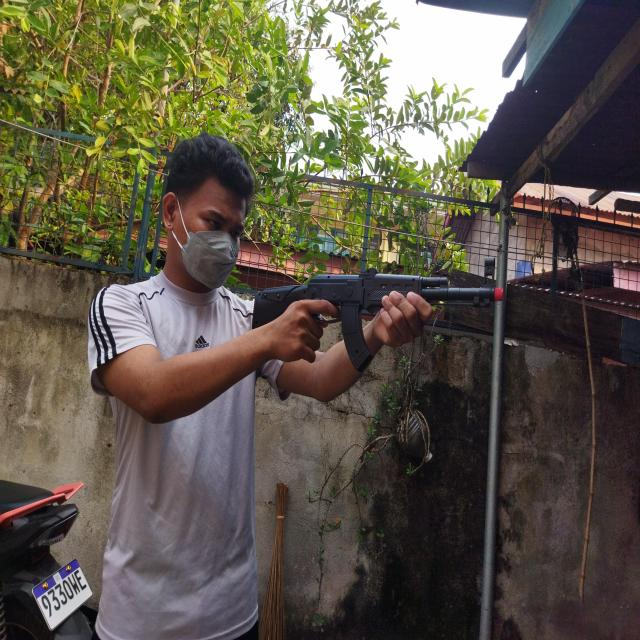rifle: (251, 260, 504, 370)
